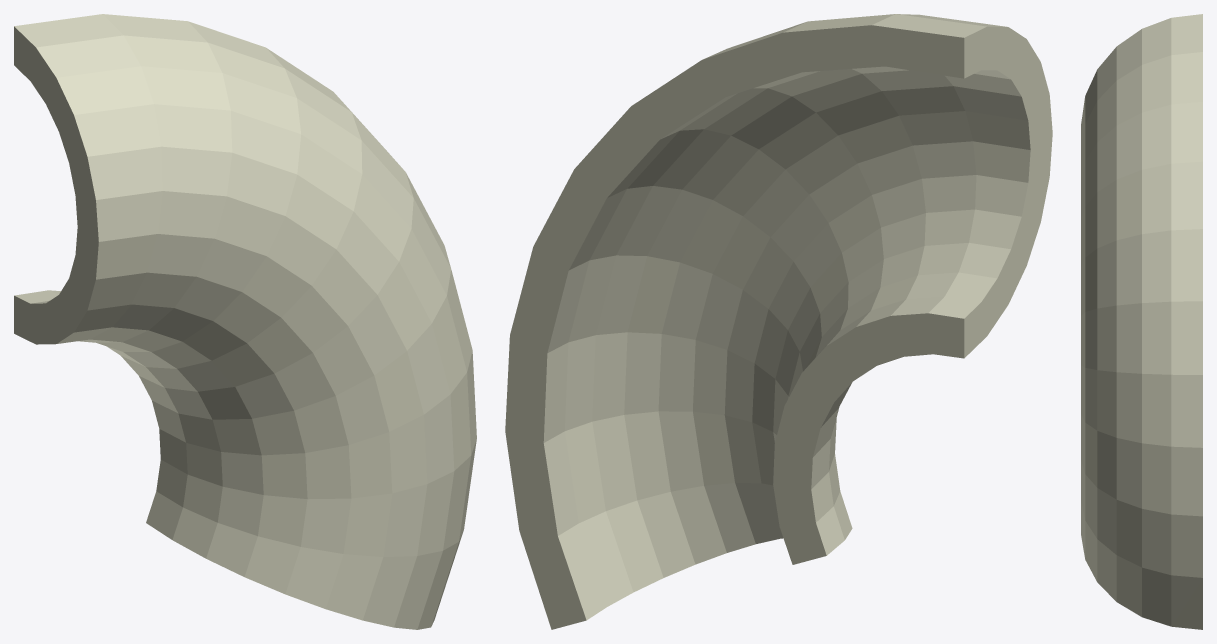
Rendered from section_403.obj.
3 views of the same model, side by side, from view 1: azimuth 30°, elevation 25°; view 2: azimuth 150°, elevation 25°; view 3: azimuth 270°, elevation 25° (orthographic). The views are drawn at different scales.
Size of the model in its own units: 11.98 by 17.28 by 4.
